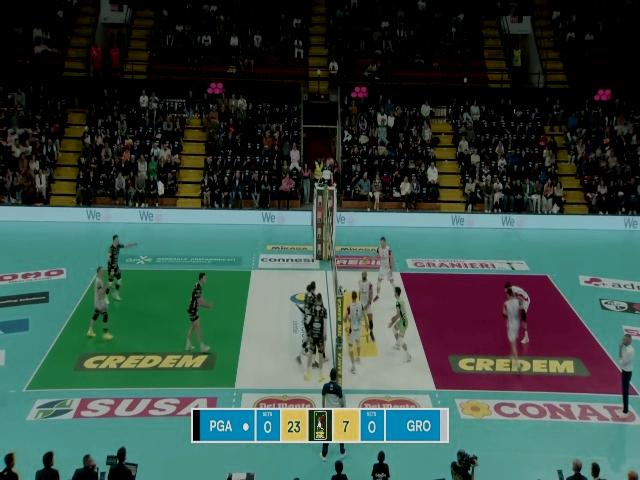volleyball court: (22, 266, 639, 393)
